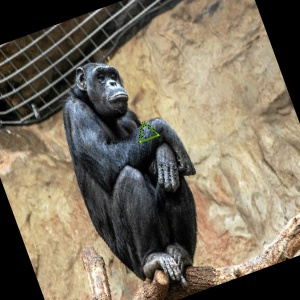triangle: (138, 119, 162, 144)
